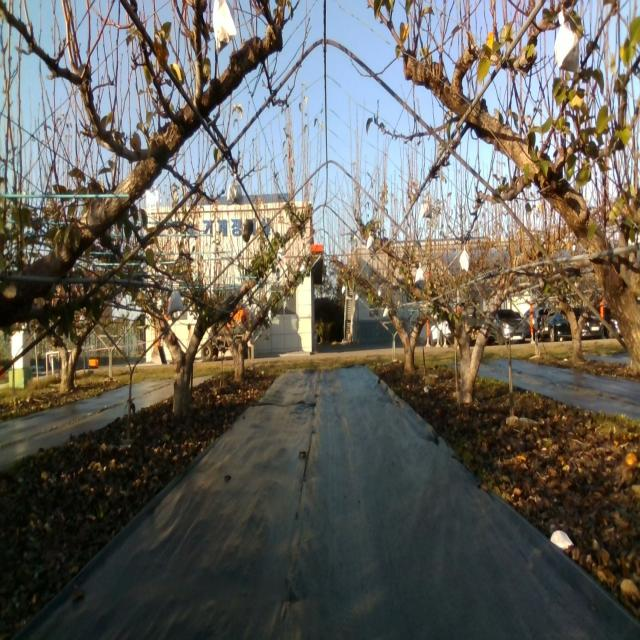pearbags: (552, 8, 582, 74), (210, 0, 236, 51), (226, 173, 244, 204), (167, 289, 184, 313), (420, 192, 432, 219), (459, 246, 470, 274)
